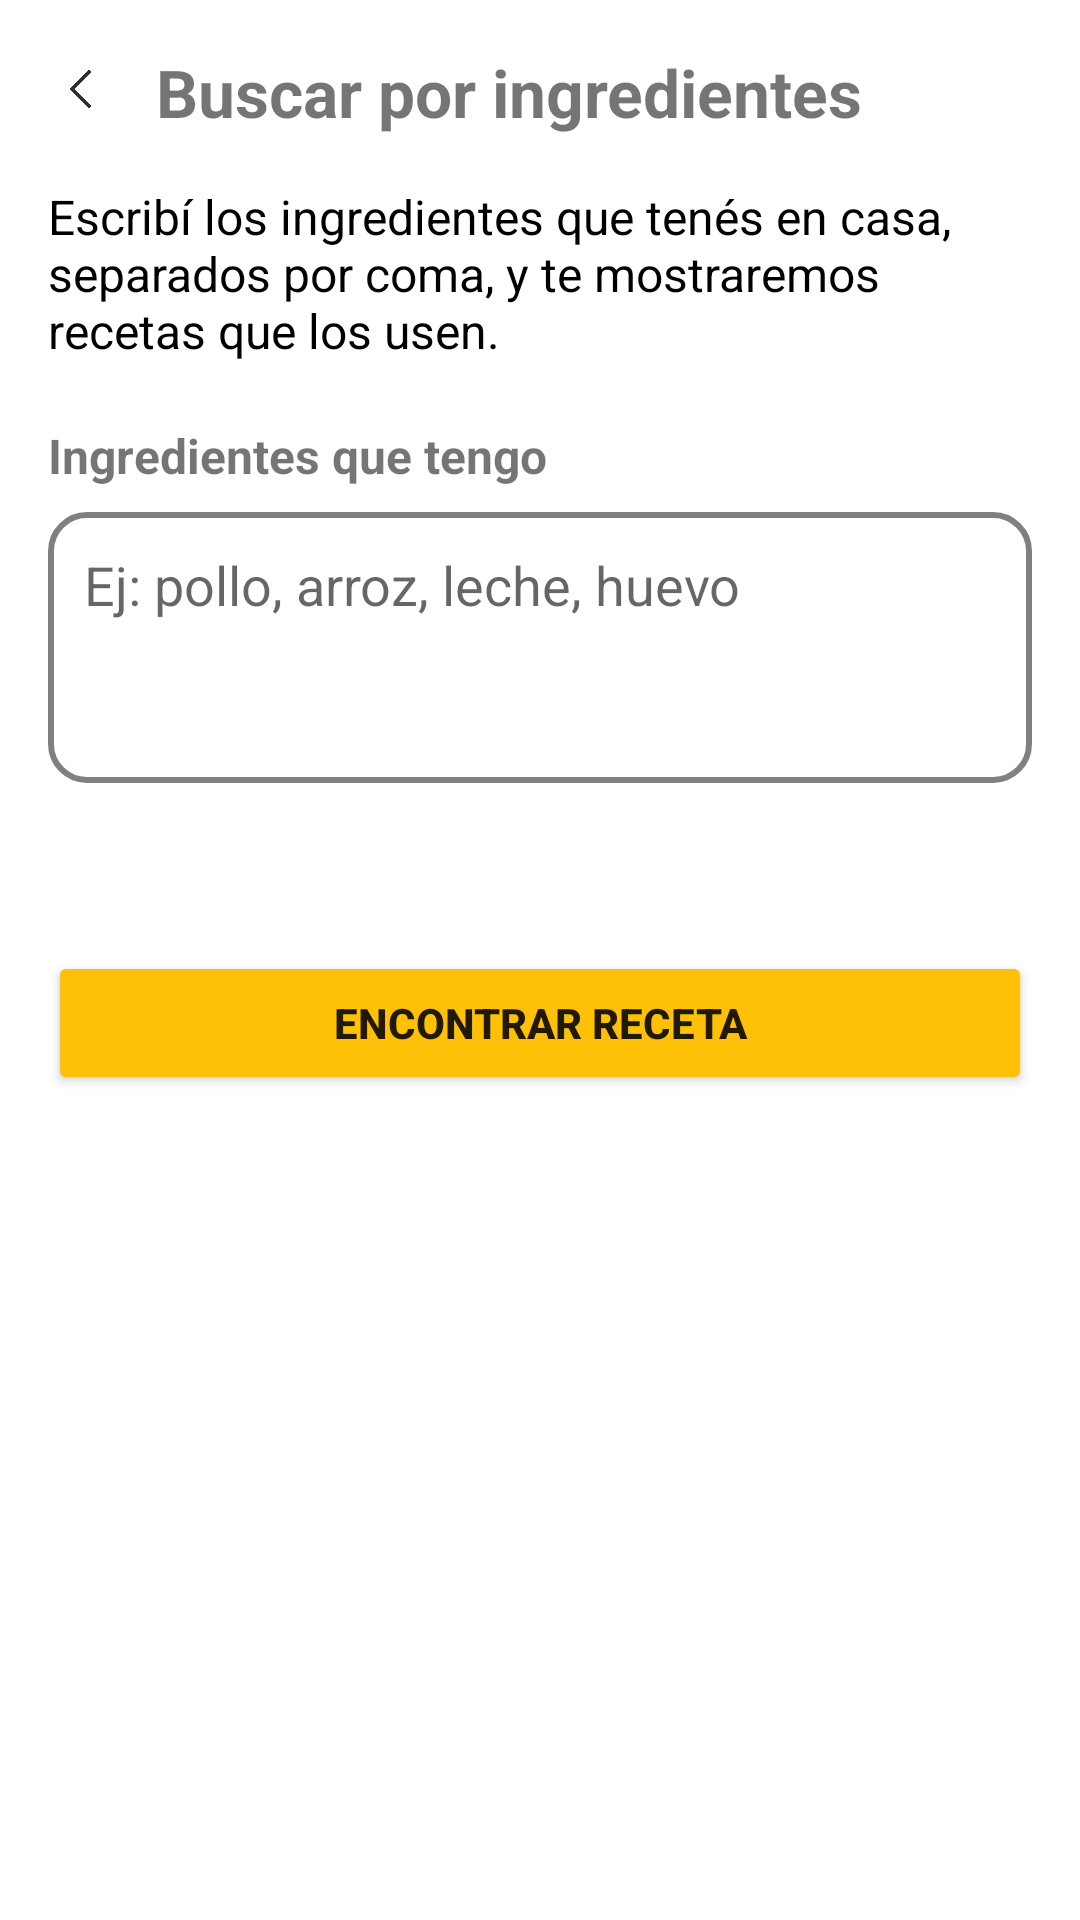

Icon bounding boxes for this 1080px×1920px phone screenshot, format BBox(x1, y1, x2, y2):
volver: BBox(70, 70, 91, 108)
